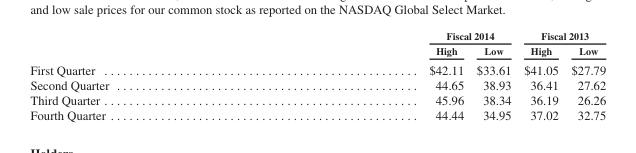table: (29, 29, 605, 122)
table column: (29, 29, 268, 122), (268, 29, 469, 122), (516, 29, 564, 122), (469, 29, 516, 122), (564, 29, 605, 122)
table column header: (29, 29, 605, 59)
table row: (29, 59, 605, 77), (29, 42, 605, 59), (29, 77, 605, 92), (29, 92, 605, 107), (29, 107, 605, 122), (29, 29, 605, 42)
table spanning cell: (268, 29, 516, 42), (516, 29, 605, 42)
